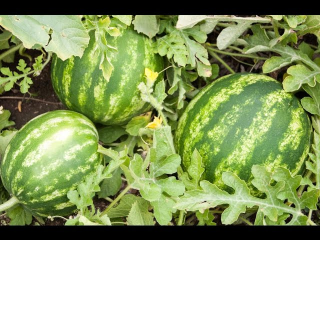dua_hau: (171, 72, 313, 206), (50, 16, 165, 129), (2, 110, 101, 219)
